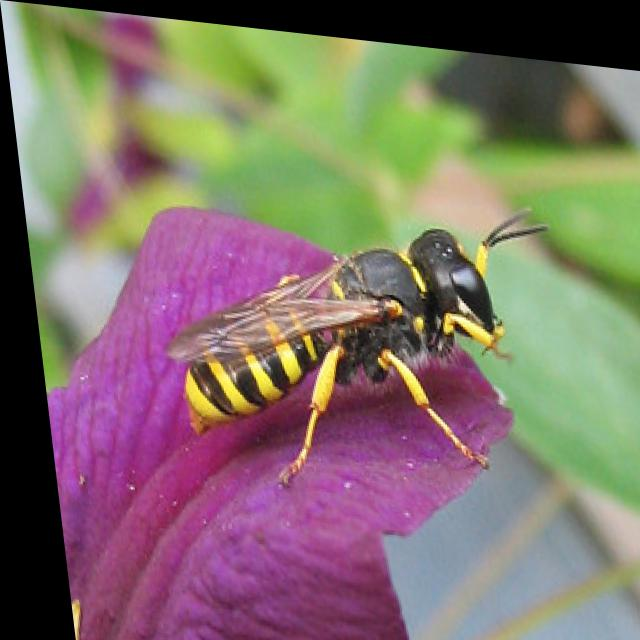Guepe: (128, 156, 619, 510)
